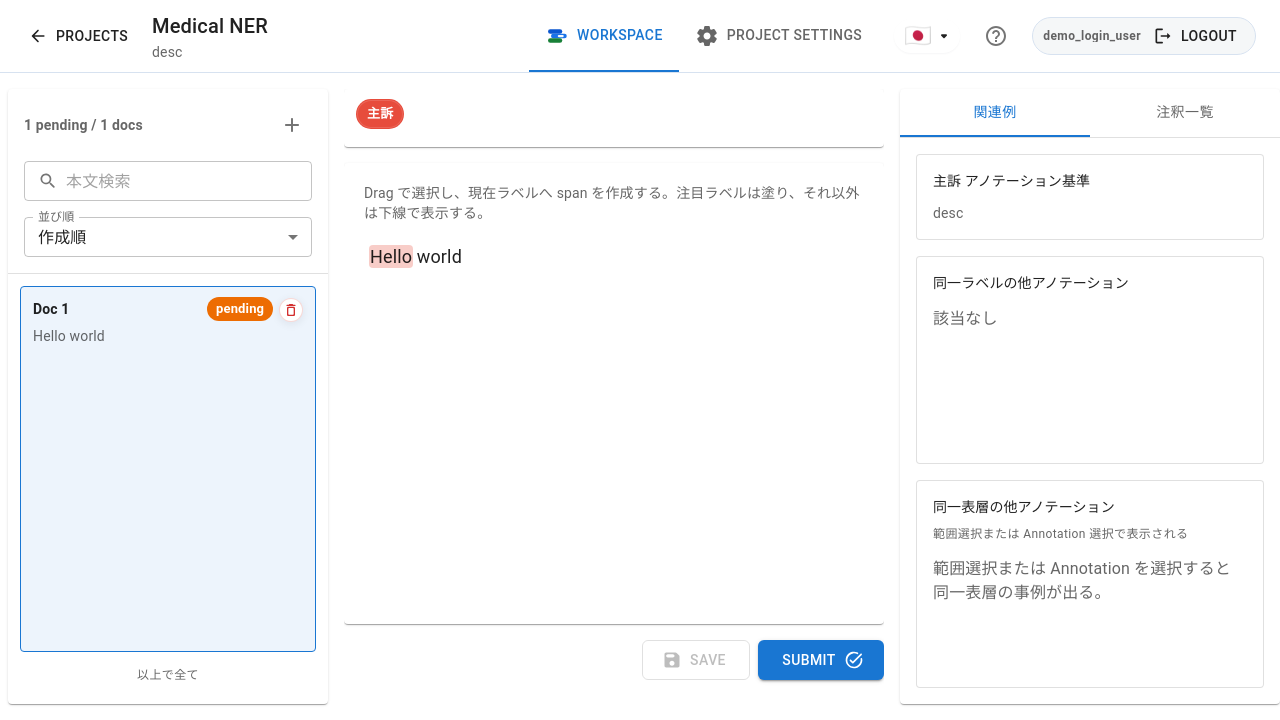
Test: ProjectShell pending changes navigation guard › shows a confirmation dialog and stays on the workspace when the user cancels leaving with unsaved changes
The width and height of the screenshot is (1280, 720).
Expected: the text "1 pending / 1 docs" is shown, [24,115,143,135]
Click the tab "注釈一覧": click(1185, 113) [1090,89,1279,137]
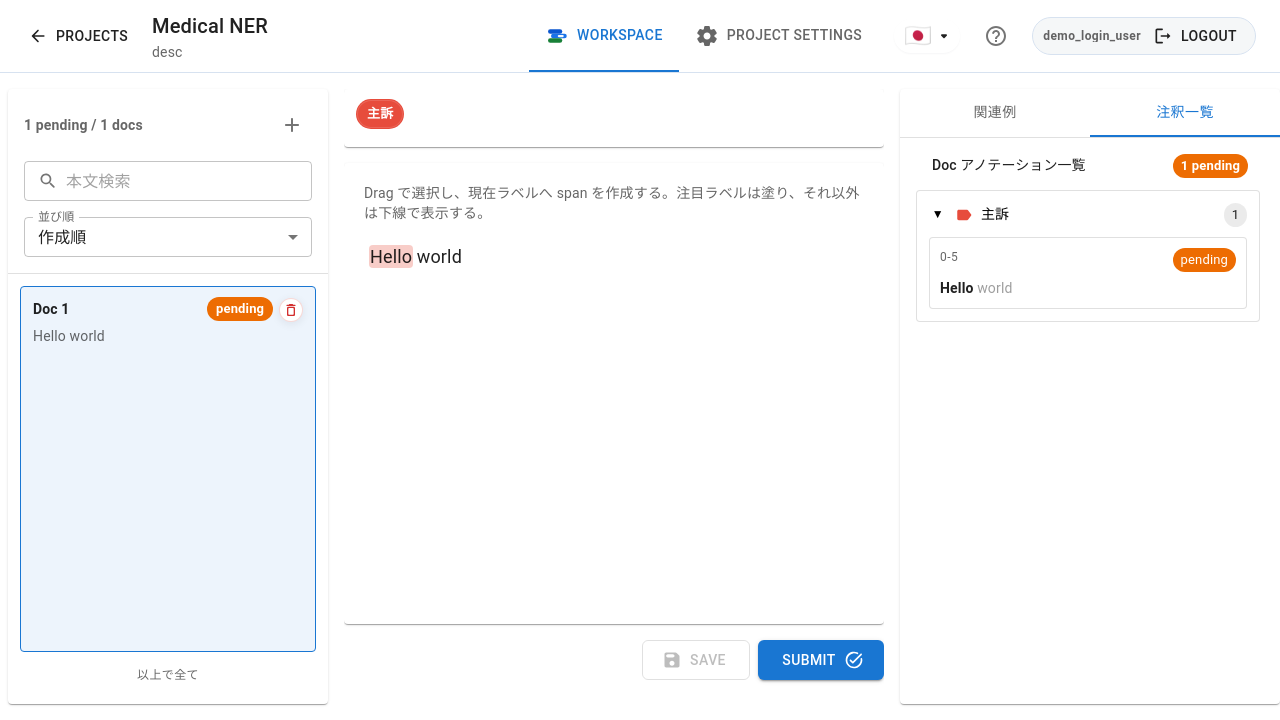
Click the text "0-5": click(949, 257) [940,250,958,264]
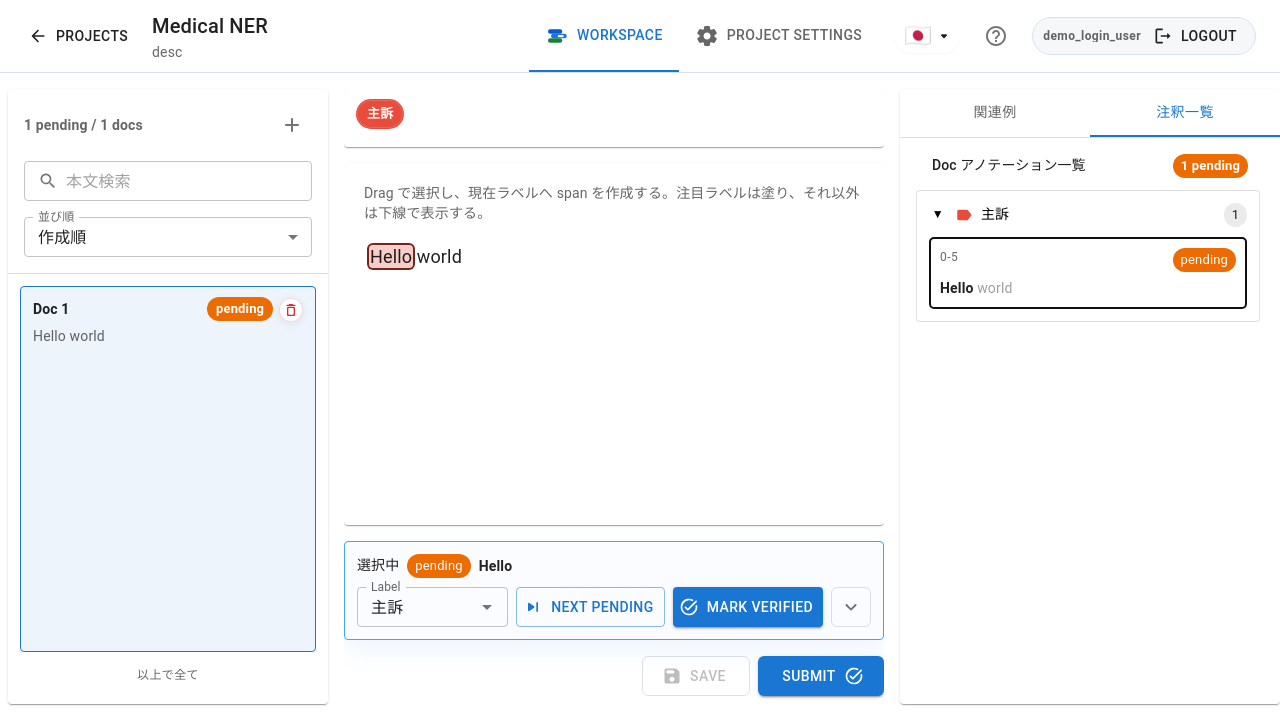
Click the button named "Annotation details": click(851, 607) [831,587,871,627]
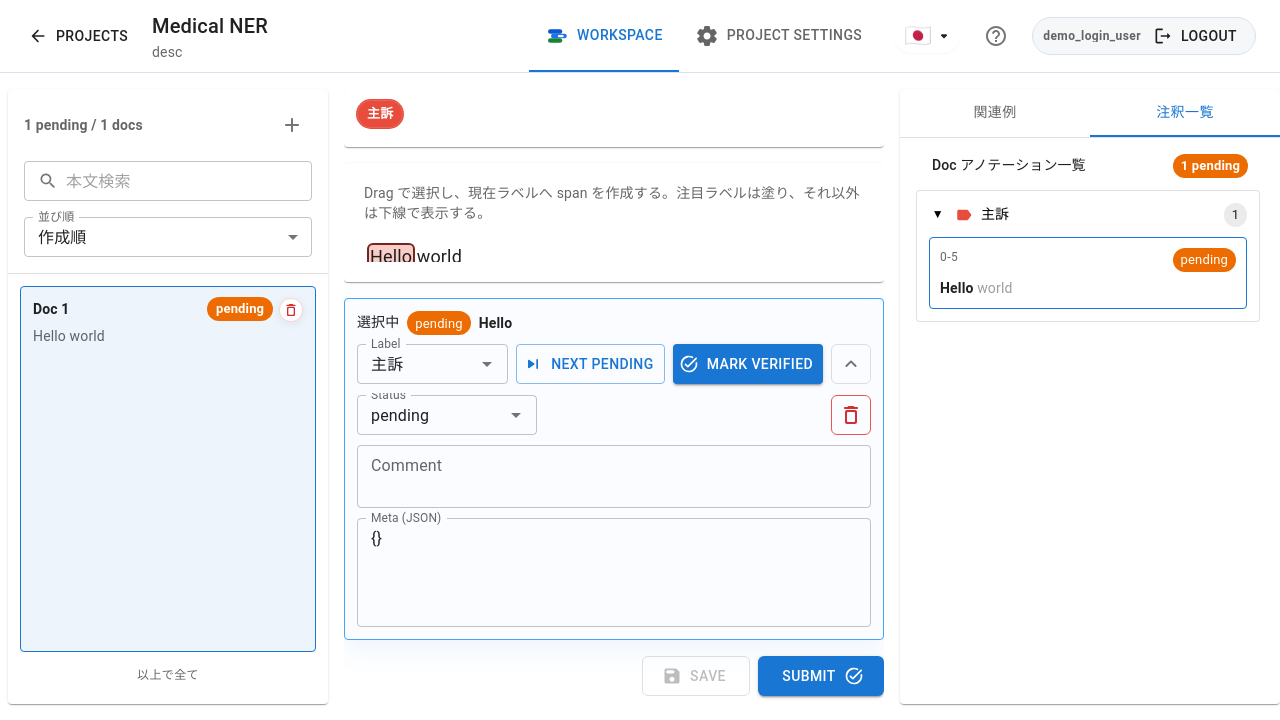
In the text box labelled "Comment": (614, 476) [371,454,857,500], type "dirty comment"
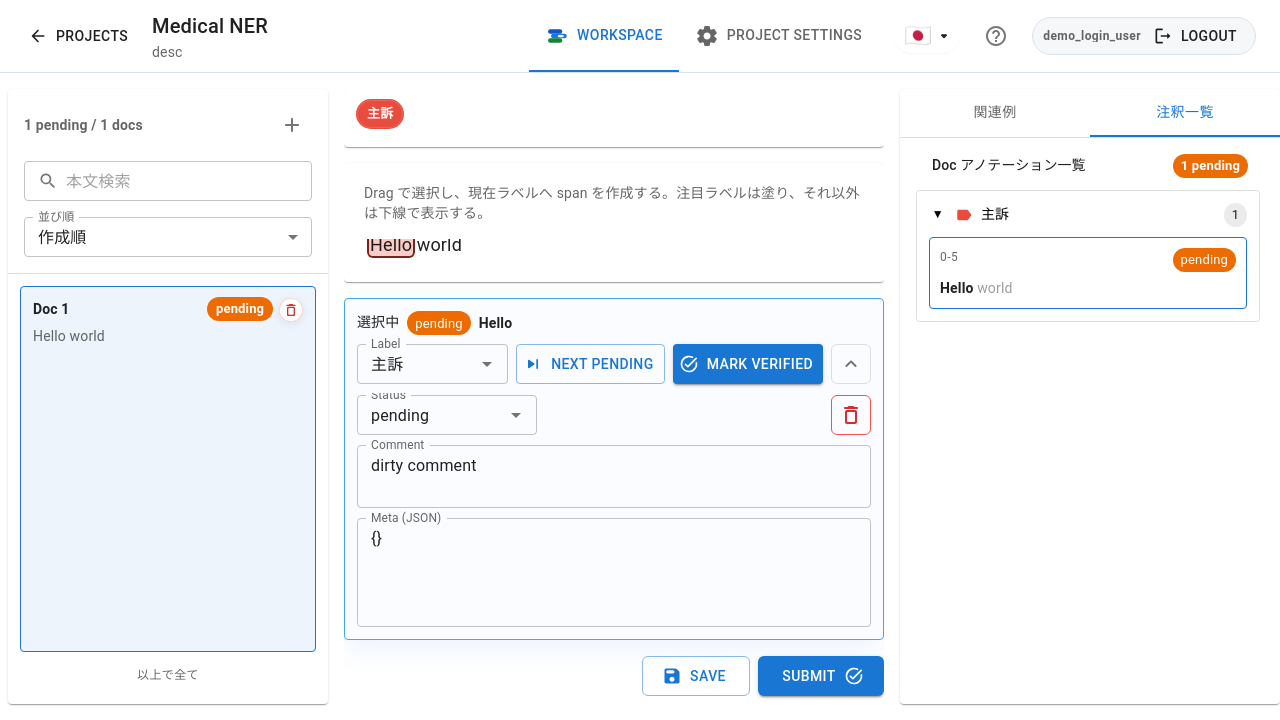
Click the button "Projects": click(80, 36) [24,18,136,54]
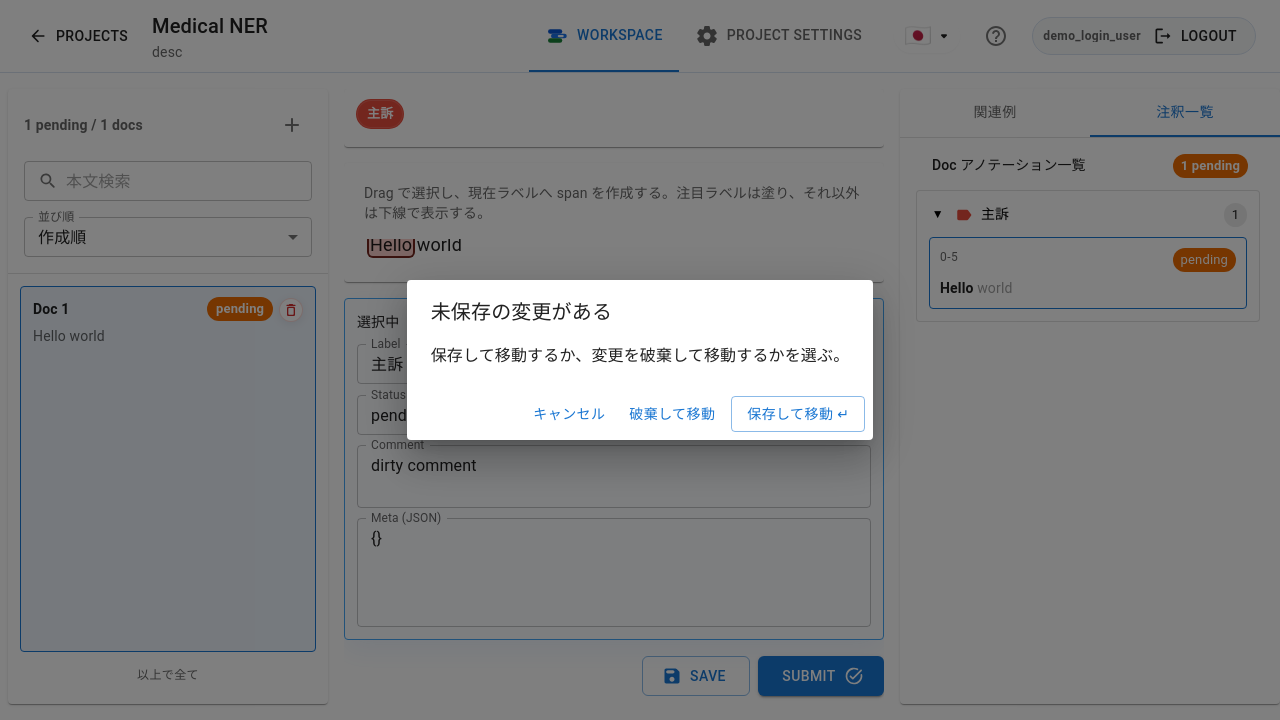
Now the dialog "未保存の変更がある" is shown, box [407,280,873,440]
Click the button "キャンセル": click(569, 414) [525,396,613,432]
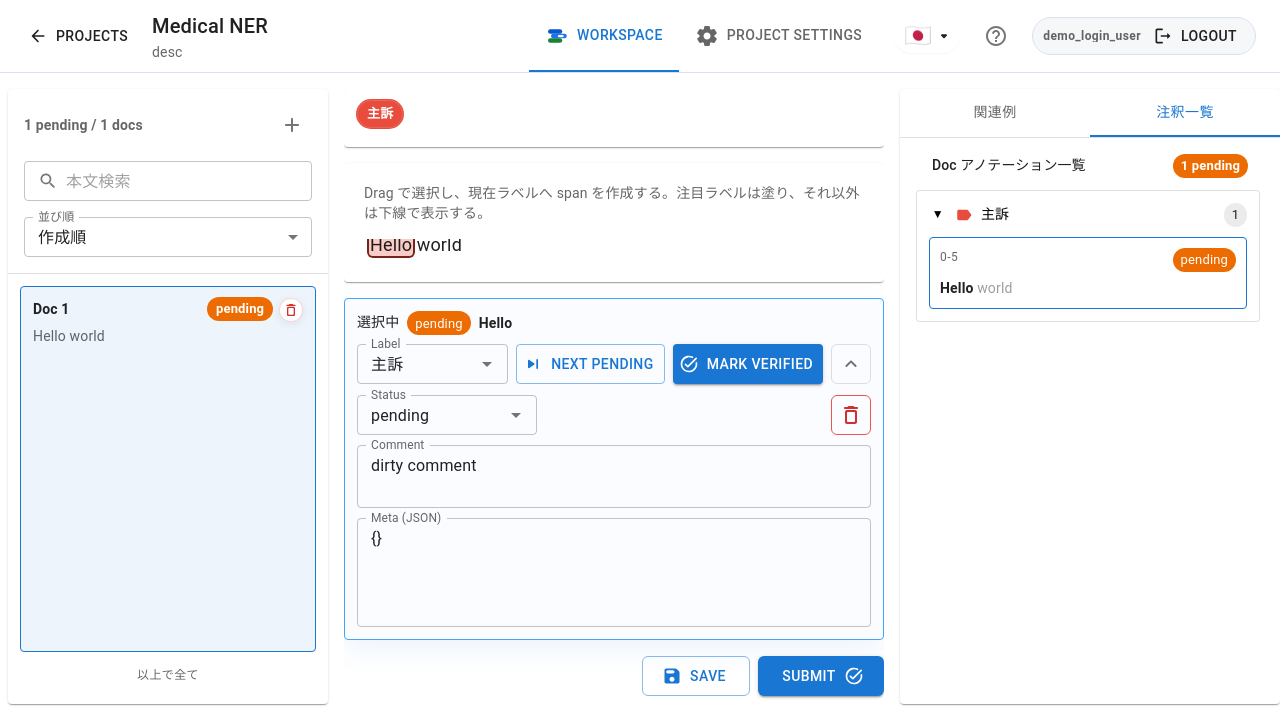
Expected: the button "Save" is shown, [642,656,750,696]
Now the heading "未保存の変更がある" is gone
